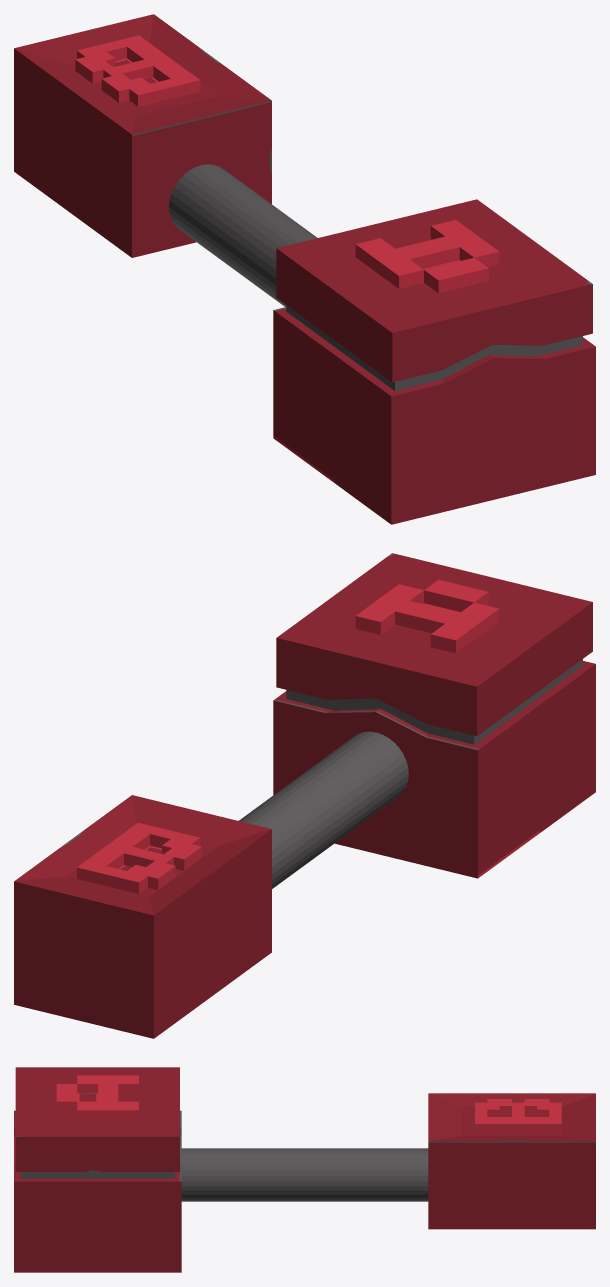
Rendered from BTS_PlayerSpringModel.obj.
3 views of the same model, one above another, from view 1: azimuth 30°, elevation 25°; view 2: azimuth 150°, elevation 25°; view 3: azimuth 270°, elevation 25° (orthographic). The views are drawn at different scales.
Parts seen in each view (by area): view 1: Cube, Cube.001, Cylinder; view 2: Cube, Cube.001, Cylinder; view 3: Cube, Cube.001, Cylinder.
Part boxes in pixels (<box>): Cube: <box>273,199,595,524</box>; Cube.001: <box>14,14,271,257</box>; Cylinder: <box>169,164,317,306</box>; Cube: <box>273,553,595,878</box>; Cube.001: <box>14,795,271,1038</box>; Cylinder: <box>239,731,408,888</box>; Cube: <box>14,1067,181,1272</box>; Cube.001: <box>428,1093,595,1229</box>; Cylinder: <box>181,1148,428,1201</box>.
Bounding box in the file's own units: 1 × 0.9505 × 3.47.
1 material, 1 textured.
